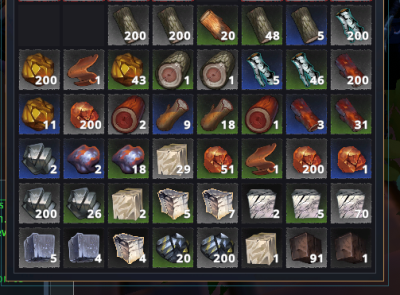ash log: (284, 4, 329, 46), (151, 4, 195, 46), (108, 4, 150, 45), (242, 4, 282, 45)
ashe heartwood: (152, 49, 195, 91), (196, 48, 239, 90)
aurelium ore: (18, 49, 60, 91), (107, 49, 149, 90), (19, 93, 60, 134)
birch log: (284, 47, 328, 91), (240, 47, 282, 90), (329, 5, 371, 47)
copper ore: (197, 137, 238, 178), (286, 138, 327, 178), (64, 94, 104, 134), (331, 138, 370, 177)
flexible hide: (63, 50, 105, 90), (242, 138, 282, 178)
granite stone: (67, 230, 104, 266), (19, 229, 57, 264)
iron ore: (107, 137, 149, 179), (64, 138, 105, 178)
limestone stone: (152, 183, 192, 223), (198, 182, 237, 221), (110, 229, 147, 265)
marble stone: (242, 184, 283, 222), (333, 185, 369, 220), (289, 185, 324, 220)
oak log: (196, 5, 239, 46)
silver ore: (63, 183, 105, 224), (20, 183, 60, 224), (19, 138, 60, 177)
slate stone: (330, 228, 369, 266), (286, 228, 325, 264)
spruce log: (195, 92, 239, 134), (152, 93, 194, 134)
tin ore: (153, 227, 192, 266), (198, 228, 237, 266)
travertine stone: (106, 183, 149, 224), (152, 137, 193, 178), (240, 229, 281, 265)
yew heartwood: (109, 93, 150, 135), (242, 94, 282, 134)
yew log: (330, 92, 372, 134), (285, 93, 328, 134), (330, 48, 372, 89)
